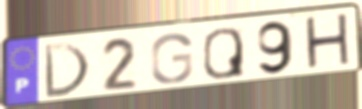2: (100, 36, 139, 92)
9: (256, 19, 296, 77)
D: (41, 41, 93, 100)
G: (148, 31, 195, 86)
H: (302, 11, 354, 74)
Q: (201, 25, 247, 81)
